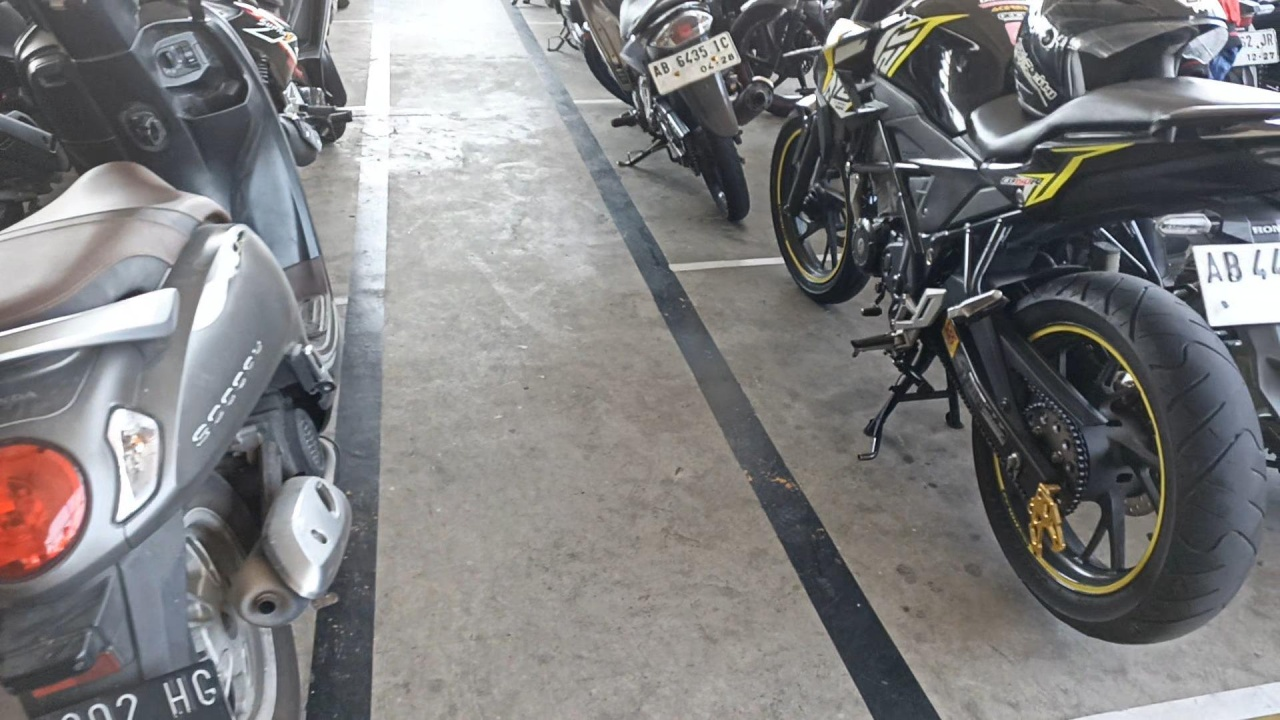plate: (649, 31, 742, 95)
